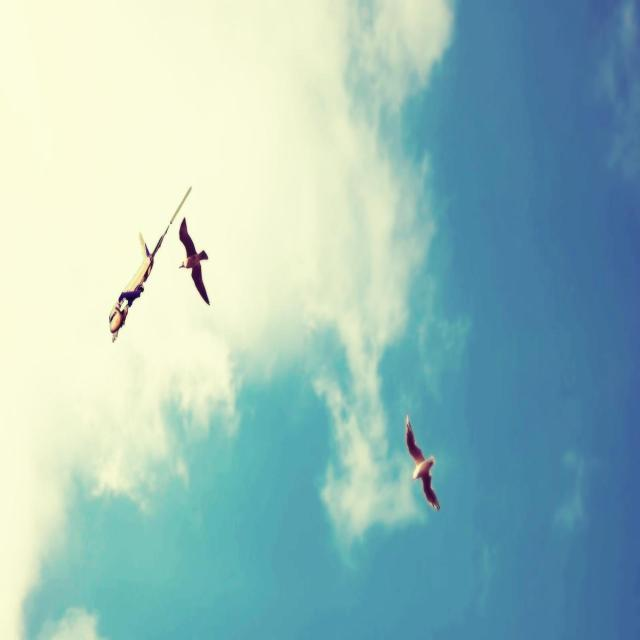airplane: (108, 185, 192, 342)
